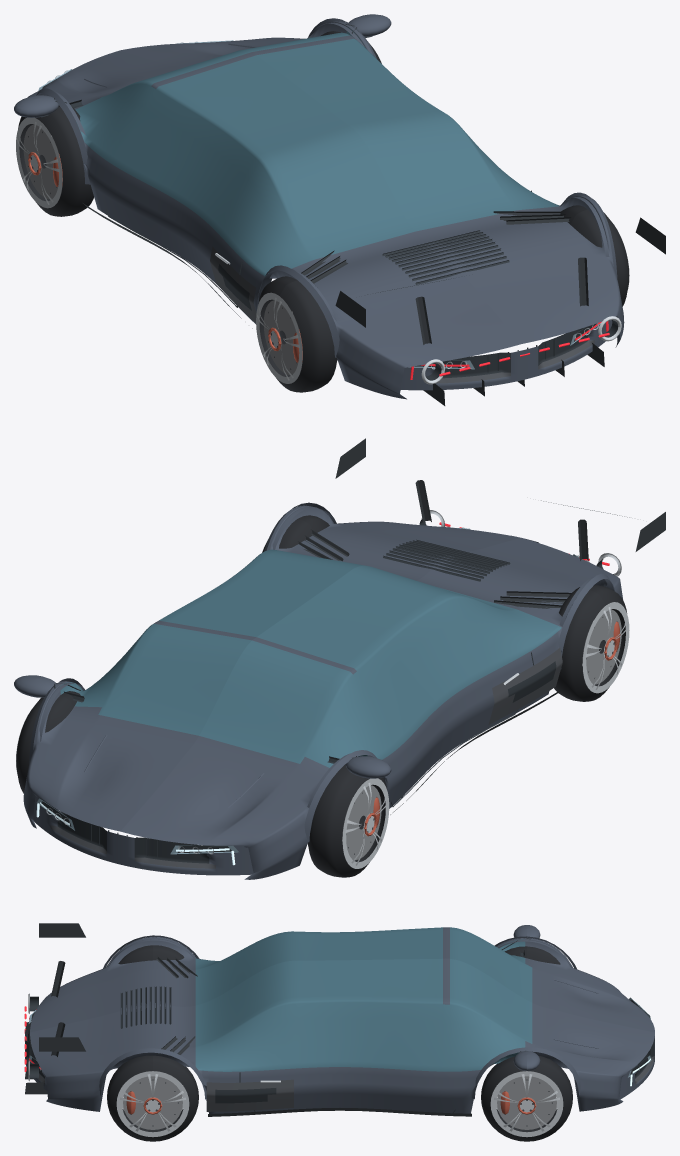
Rendered from nebula_r_medium.glb.
The picture shows the model from 3 angles, top to bottom: view 1: azimuth 30°, elevation 25°; view 2: azimuth 150°, elevation 25°; view 3: azimuth 270°, elevation 25°; orthographic projection. The views are drawn at different scales.
Parts seen in each view (by area): view 1: Body, Wheel_2, Wheel_0, Wheel_3; view 2: Body, Wheel_0, Wheel_2, Wheel_1, Wheel_3; view 3: Body, Wheel_3, Wheel_1, Wheel_2, Wheel_0.
Boxes of the visible parts, x1,y1,x2,y2 form: Body: (14, 14, 665, 405); Wheel_2: (256, 276, 337, 392); Wheel_0: (16, 106, 93, 216); Wheel_3: (560, 205, 629, 306); Body: (14, 438, 665, 879); Wheel_0: (307, 764, 389, 877); Wheel_2: (554, 585, 629, 701); Wheel_1: (16, 691, 80, 793); Wheel_3: (262, 515, 329, 552); Body: (24, 923, 654, 1116); Wheel_3: (107, 1055, 198, 1141); Wheel_1: (481, 1056, 572, 1141); Wheel_2: (118, 945, 184, 964); Wheel_0: (504, 946, 560, 964).
Bounding box in the file's own units: 2.63 × 1.08 × 5.09.
